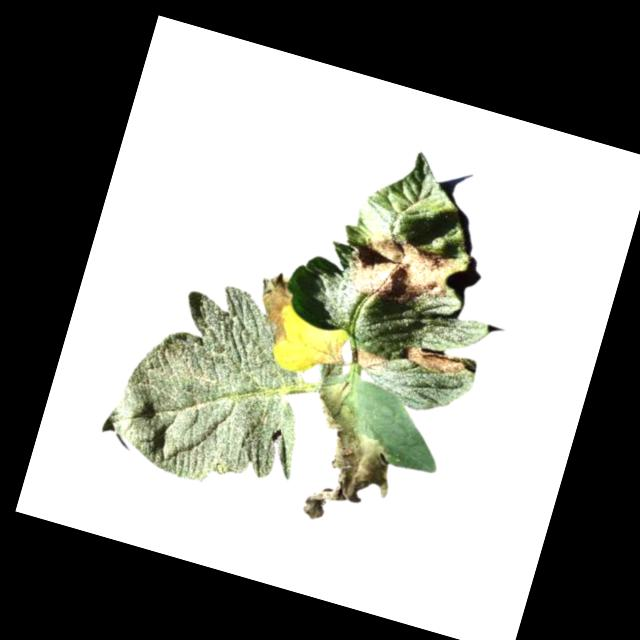Late_blight: (285, 376, 412, 536), (338, 221, 466, 321), (247, 270, 303, 348), (401, 338, 468, 382), (313, 334, 350, 372), (349, 344, 391, 374)
healthy: (94, 262, 338, 508)
